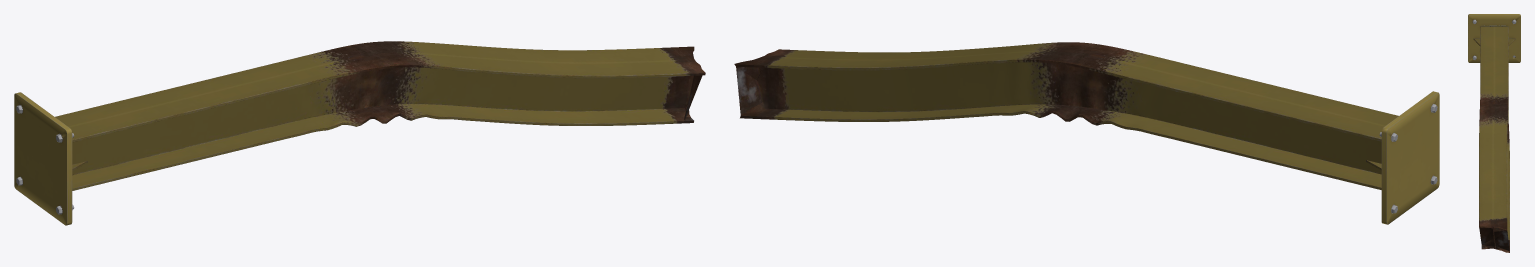
Rendered from industrial_column_bent.glb.
The picture shows the model from 3 angles, left to right: view 1: azimuth 30°, elevation 25°; view 2: azimuth 150°, elevation 25°; view 3: azimuth 270°, elevation 25°; orthographic projection. The views are drawn at different scales.
Visible parts, largest first — view 1: industrial_column_bent_paint; view 2: industrial_column_bent_paint; view 3: industrial_column_bent_paint, industrial_column_bent_bolt.
Boxes of the visible parts, x1,y1,x2,y2 form: industrial_column_bent_paint: (14,41,705,225); industrial_column_bent_paint: (734,42,1439,224); industrial_column_bent_paint: (1468,14,1520,252); industrial_column_bent_bolt: (1472,19,1516,59).
Bounding box in the file's own units: 4.09 × 0.9264 × 0.56.
3 materials, 1 textured.
